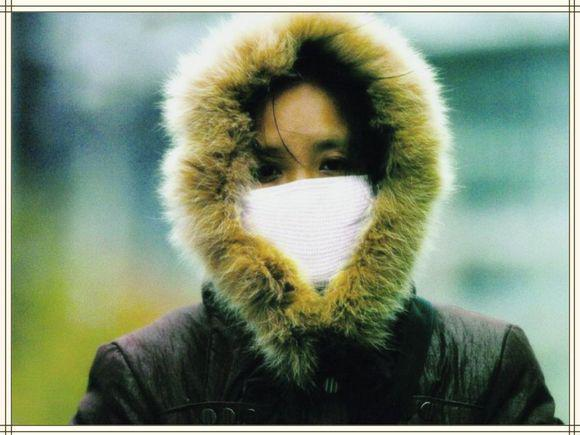OK: (235, 130, 386, 281)
